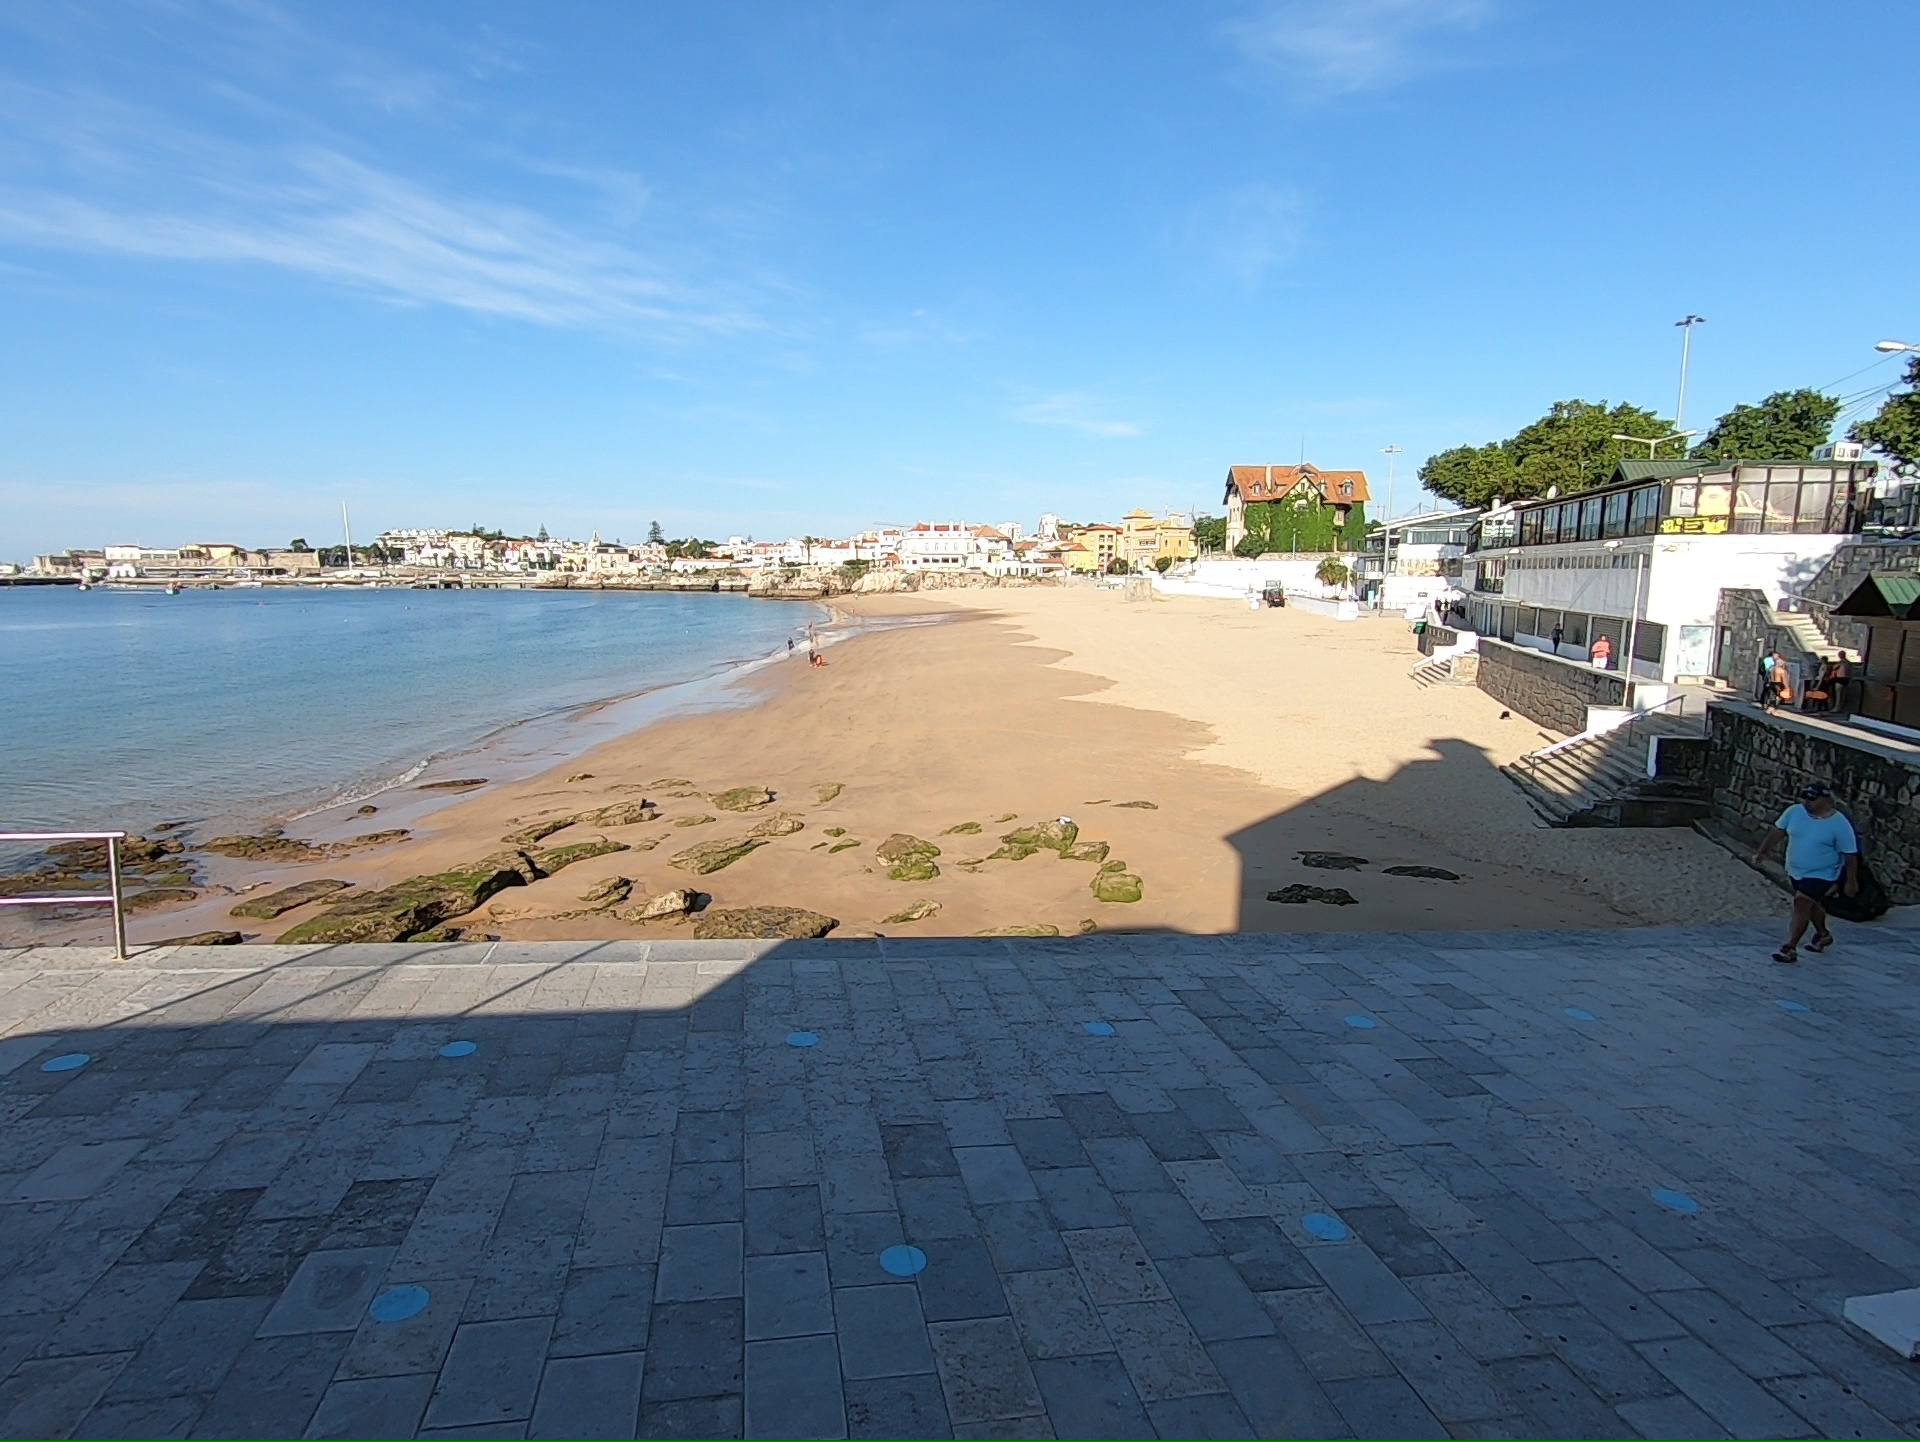person: (1752, 784, 1857, 964), (1807, 652, 1827, 710), (1830, 650, 1851, 714), (1766, 658, 1789, 710), (1589, 634, 1609, 671), (1550, 623, 1564, 656), (808, 646, 815, 667), (786, 636, 794, 649), (807, 619, 811, 628)
